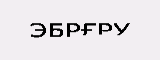Б: (47, 21, 64, 38)
Р: (65, 21, 80, 37), (97, 21, 111, 36)
У: (113, 22, 131, 37)
Э: (29, 20, 46, 38)
Ғ: (80, 21, 97, 36)
